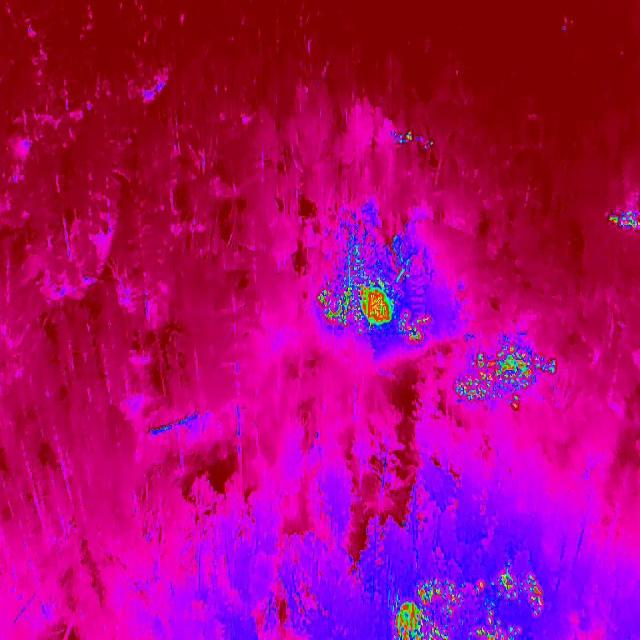fire: (317, 271, 430, 345), (451, 344, 534, 414), (390, 575, 460, 640), (498, 569, 548, 617), (390, 125, 440, 155), (602, 197, 640, 236), (474, 610, 506, 640), (534, 356, 557, 376), (478, 579, 486, 591)
